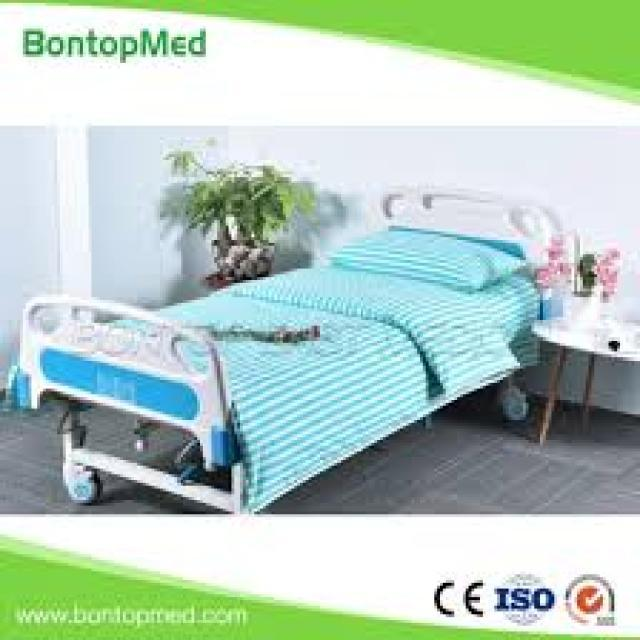bed: (6, 183, 568, 512)
